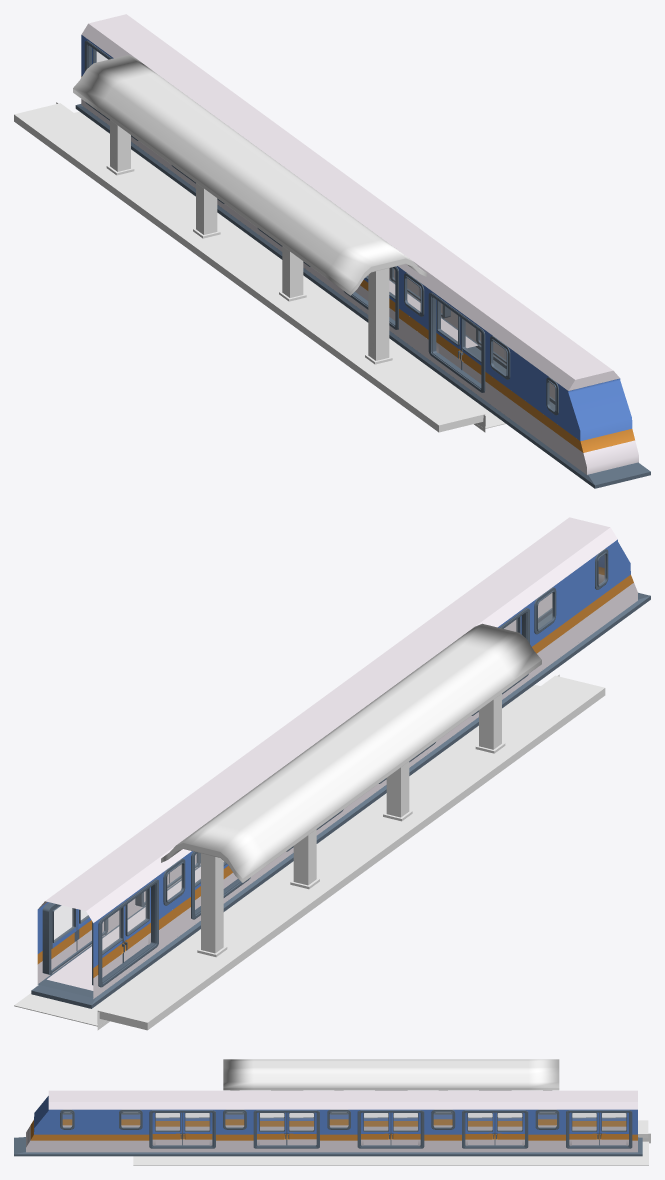
File: finalsub.glb
The picture shows the model from 3 angles, top to bottom: view 1: azimuth 30°, elevation 25°; view 2: azimuth 150°, elevation 25°; view 3: azimuth 270°, elevation 25°; orthographic projection. The views are drawn at different scales.
Visible parts, largest first — view 1: Subway Train, roof, waitplat, trainplat, pillar4, pillar3, pillar2, pillar1; view 2: Subway Train, roof, waitplat, trainplat, pillar1, pillar3, pillar2, pillar4; view 3: Subway Train, roof, trainplat, waitplat.
Part boxes in pixels (bbox=[...]): Subway Train: bbox=[75, 14, 650, 488]; roof: bbox=[73, 55, 426, 295]; waitplat: bbox=[14, 103, 485, 432]; trainplat: bbox=[74, 111, 505, 428]; pillar4: bbox=[365, 268, 392, 364]; pillar3: bbox=[279, 246, 306, 301]; pillar2: bbox=[193, 183, 220, 238]; pillar1: bbox=[106, 120, 134, 175]; Subway Train: bbox=[31, 517, 650, 1008]; roof: bbox=[161, 623, 541, 882]; waitplat: bbox=[97, 675, 605, 1030]; trainplat: bbox=[14, 684, 540, 1026]; pillar1: bbox=[197, 853, 227, 957]; pillar3: bbox=[383, 761, 412, 821]; pillar2: bbox=[290, 829, 319, 889]; pillar4: bbox=[475, 693, 505, 753]; Subway Train: bbox=[14, 1090, 642, 1156]; roof: bbox=[223, 1059, 559, 1090]; trainplat: bbox=[133, 1141, 648, 1165]; waitplat: bbox=[638, 1120, 648, 1138].
Bounding box in the file's own units: 32.55 × 26.99 × 215.
